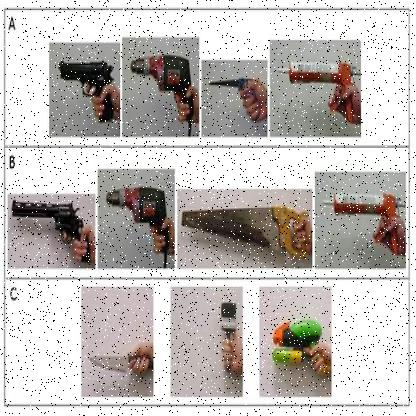pistol: (11, 197, 92, 263), (60, 54, 115, 132)
